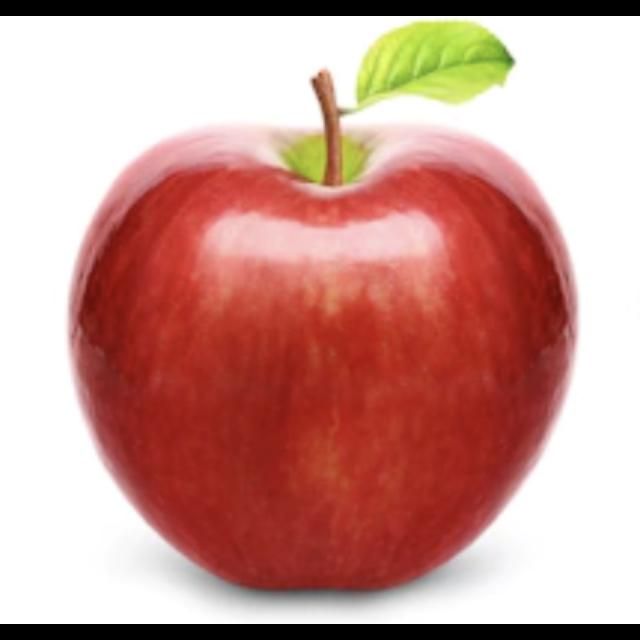Apel Segar: (62, 115, 572, 593)
